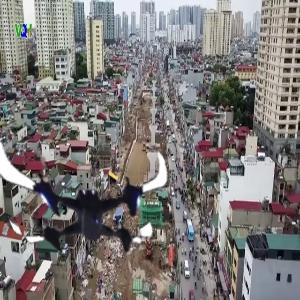drone: (2, 110, 179, 287)
